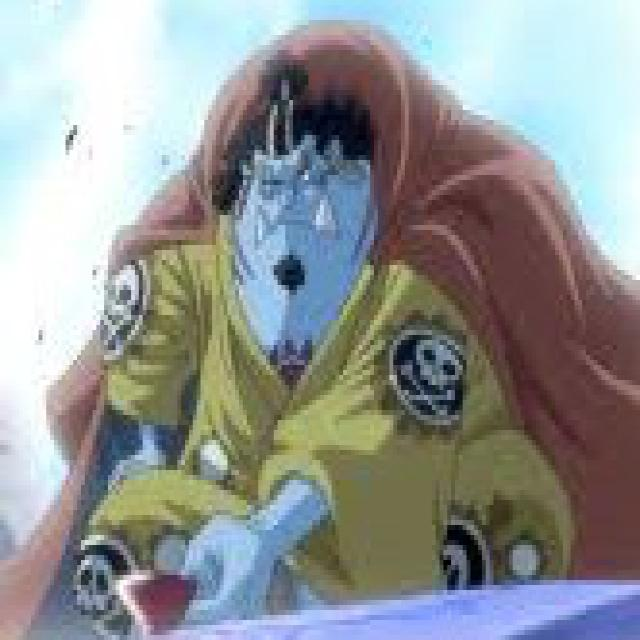Jinbe: (0, 20, 640, 640)
